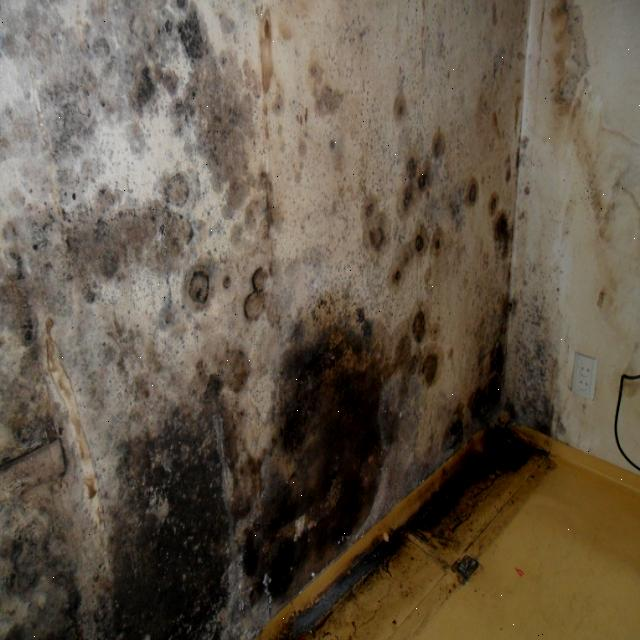dampness: (127, 348, 417, 534)
